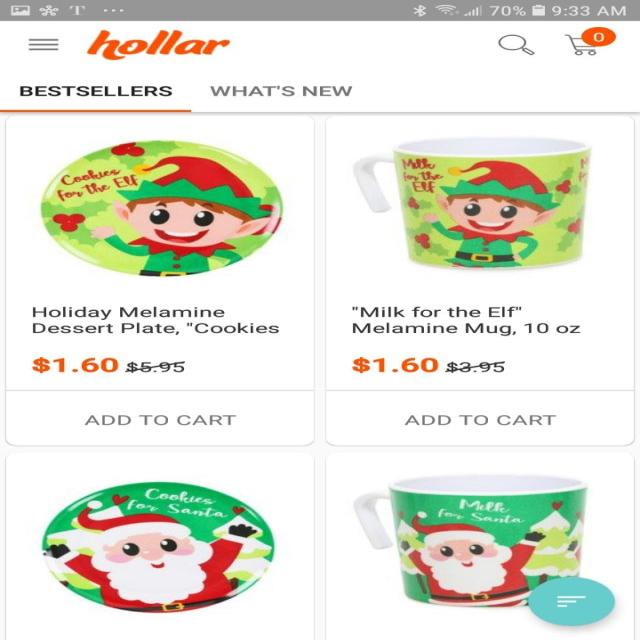Icon: (527, 576, 615, 626), (564, 26, 616, 56), (496, 34, 534, 55), (28, 38, 58, 50)
Image: (40, 140, 284, 276), (352, 137, 590, 271), (352, 472, 588, 607), (41, 481, 274, 613), (86, 30, 230, 61)
Text: (31, 306, 279, 335), (351, 306, 581, 336), (210, 85, 352, 97), (19, 85, 172, 96), (31, 356, 118, 374), (351, 356, 438, 374), (444, 360, 504, 373), (124, 360, 184, 373)
TextButton: (324, 390, 634, 446), (5, 390, 315, 446)
